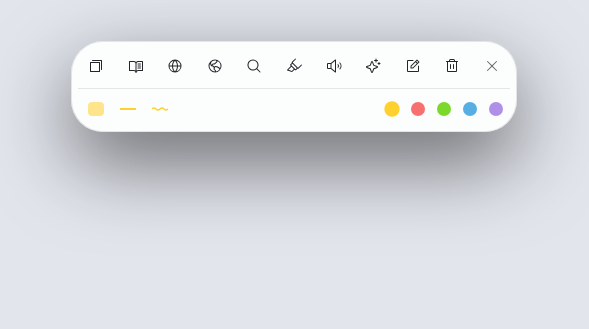
Test: SelectionToolbar note actions › empties the field on 清空 and writes nothing yet
This screenshot has width=589, height=329.
What coordinates should you click on to do the following:
click the button named "记笔记"
I would click on:
 (413, 66)
Its box is [395, 48, 431, 84].
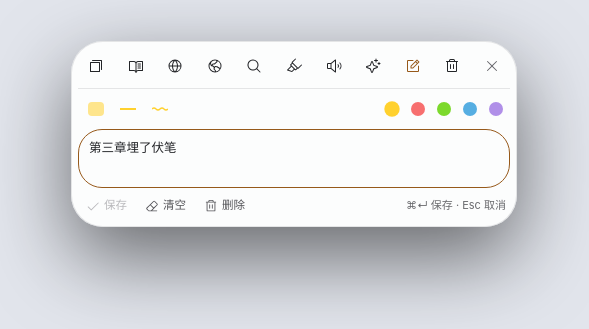
What coordinates should you click on to do the following:
click the button with aria-label "清空输入"
I would click on:
 (166, 206)
Its box is [137, 192, 194, 220].
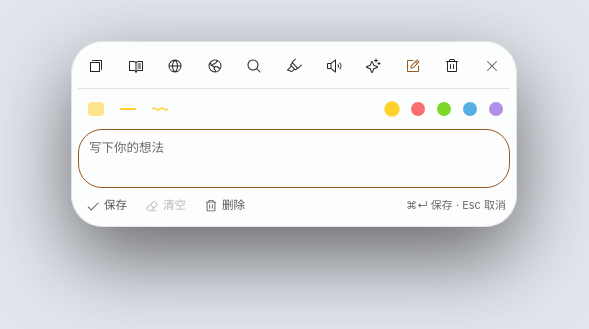
expect the text box named "笔记" is empty: met, box [78, 129, 510, 188]
expect the button with aria-label "清空输入" is disabled: met, box [137, 192, 194, 220]
